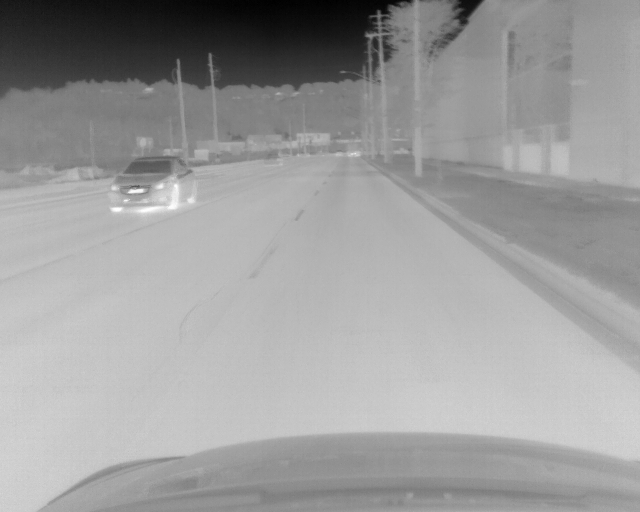car: (108, 156, 198, 212), (263, 152, 283, 168)
